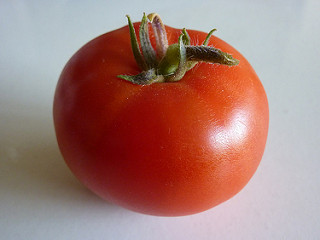tomato: (50, 20, 271, 213)
